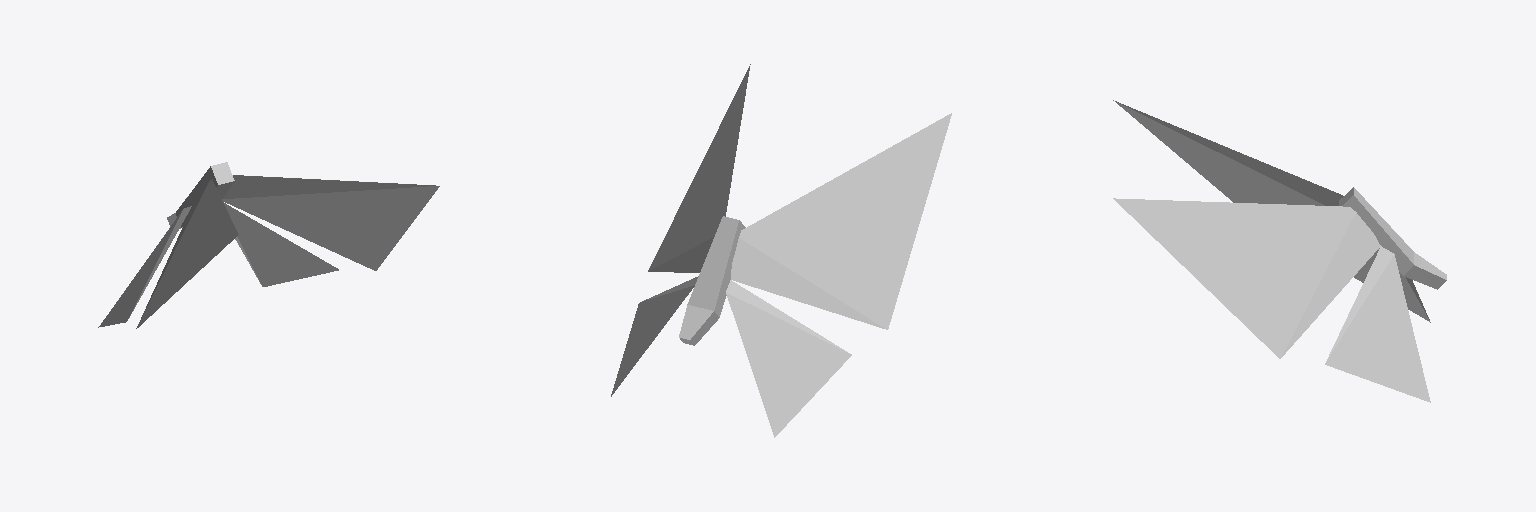
The model's file is papillonB.obj.
The picture shows the model from 3 angles: view 1: azimuth 30°, elevation 25°; view 2: azimuth 150°, elevation 25°; view 3: azimuth 270°, elevation 25°; orthographic projection.
Size of the model in its own units: 0.3879 by 0.3296 by 0.4677.